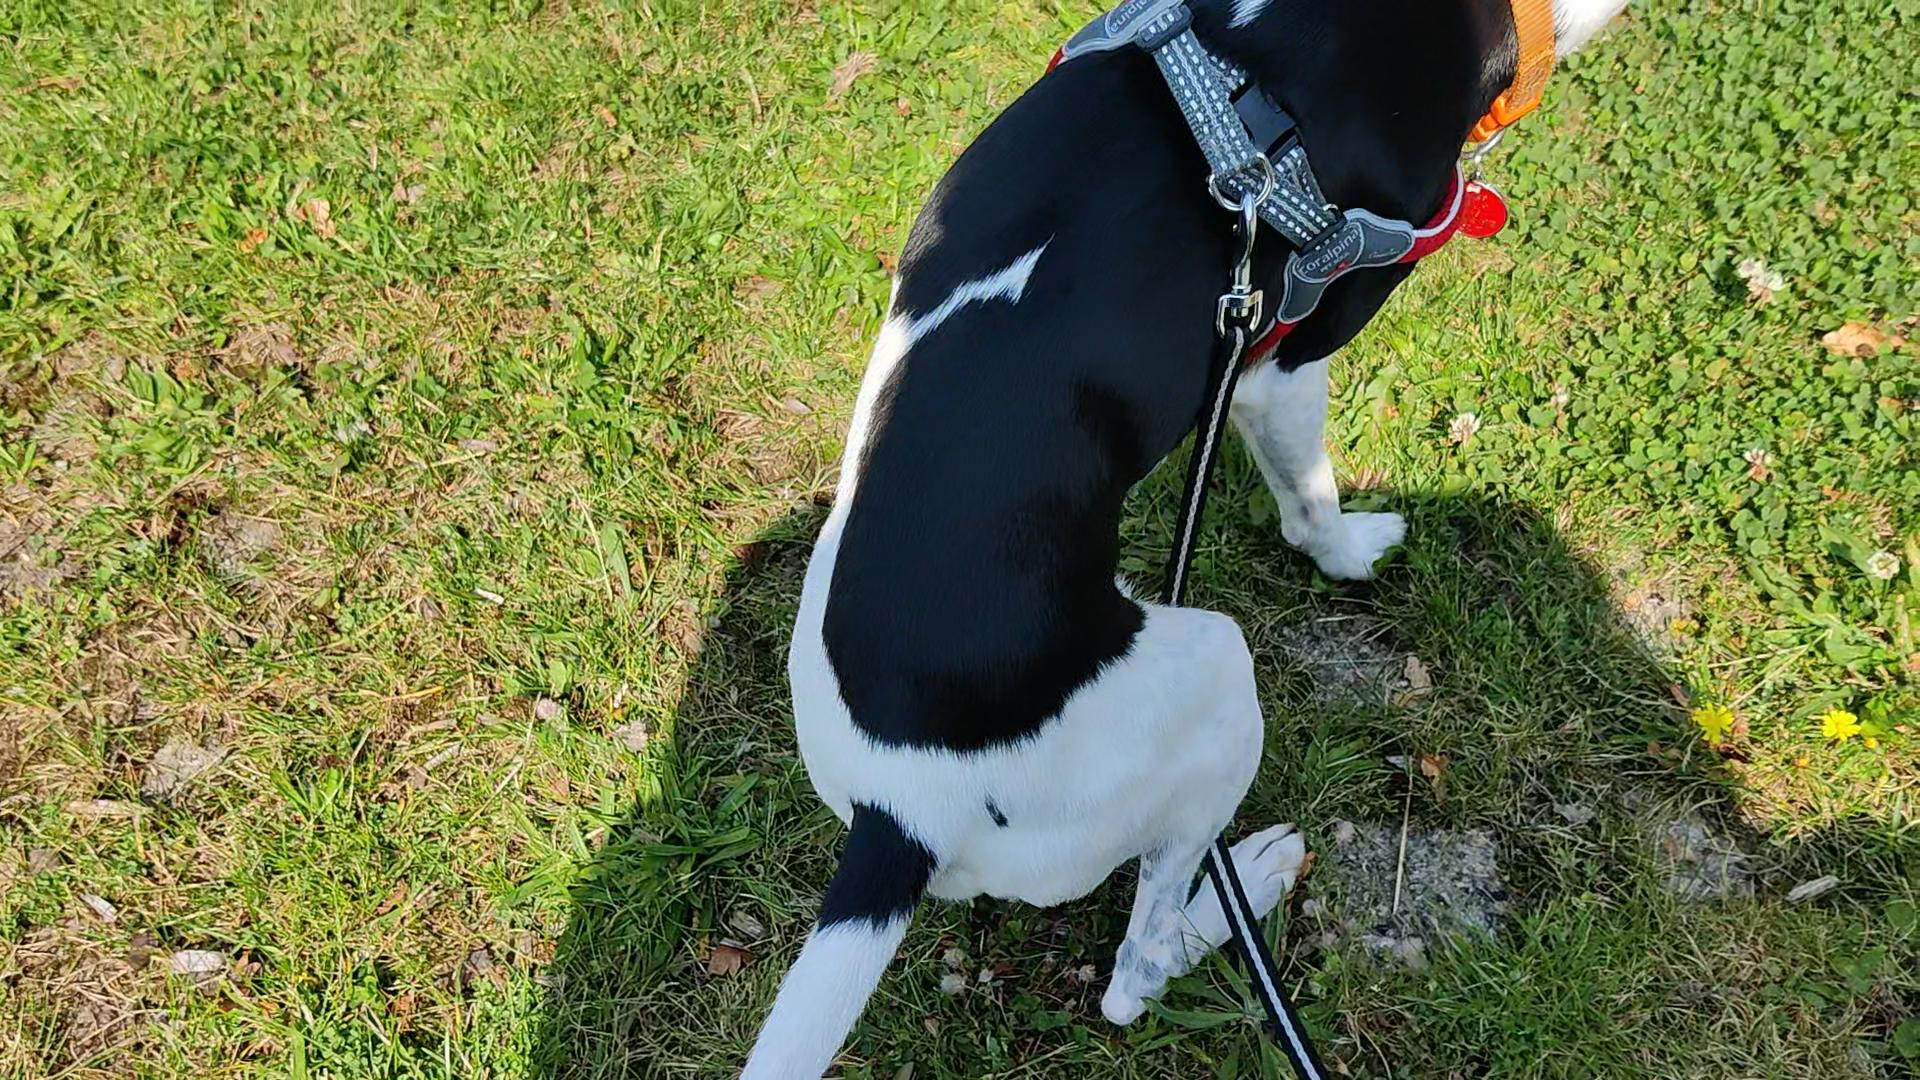Dog: (731, 0, 1636, 1080)
